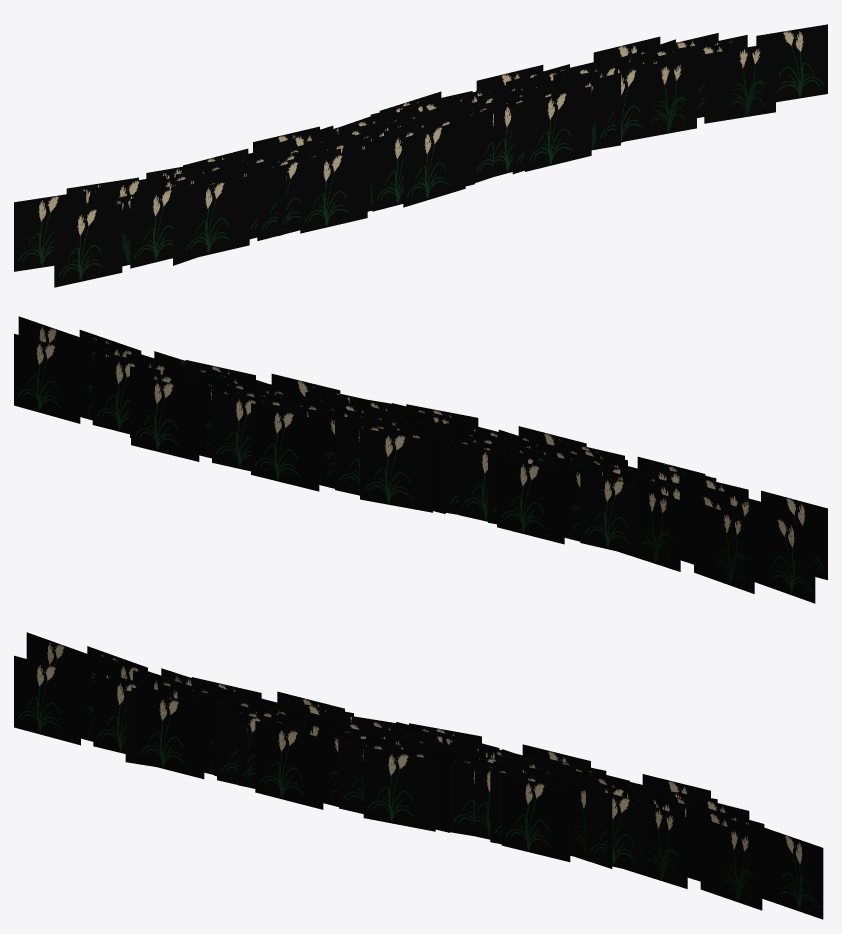
Rendered from すすき.fbx.
3 renders of one model, top to bottom at view 1: azimuth 30°, elevation 25°; view 2: azimuth 150°, elevation 25°; view 3: azimuth 330°, elevation 25°, orthographic. The views are drawn at different scales.
Parts seen in each view (by area): view 1: 平面.001; view 2: 平面.001; view 3: 平面.001.
Boxes of the visible parts, x1=… form: 平面.001: x1=14, y1=24, x2=827, y2=287; 平面.001: x1=14, y1=316, x2=827, y2=603; 平面.001: x1=14, y1=632, x2=823, y2=919.
Bounding box in the file's own units: 2385 × 206 × 219.
2 materials, 2 textured.
